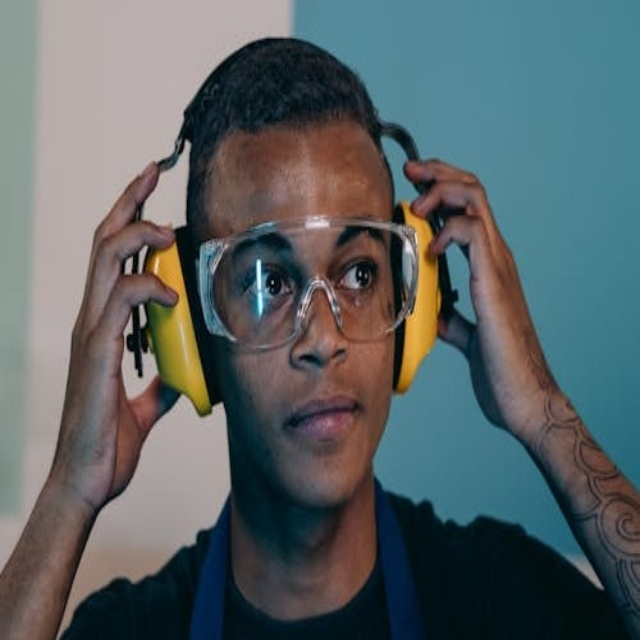Gafas: (194, 216, 421, 351)
Sin_guantes: (42, 148, 184, 509), (401, 142, 544, 413)
Sin_mascara: (269, 377, 366, 490)
